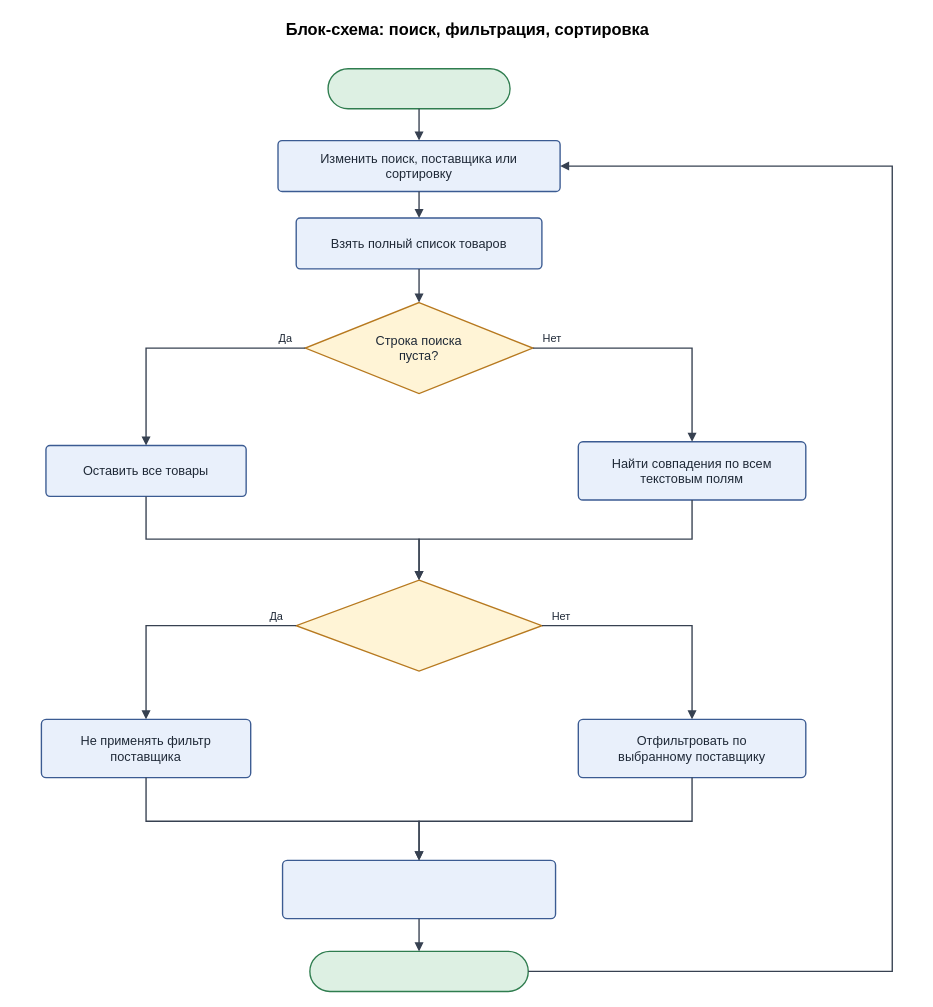
The diagram is 933 pixels wide and 1007 high, and some of its shapes have lost their labels. The box of each missing label's shape, as (x1, y1, x2, y2) in pixels:
Выбран «Все поставщики»?: (295, 579, 542, 671)
Каталог открыт: (327, 68, 510, 109)
Отсортировать по остатку (по возрастанию или убыванию): (281, 859, 556, 919)
Сразу обновить список: (309, 950, 529, 992)
